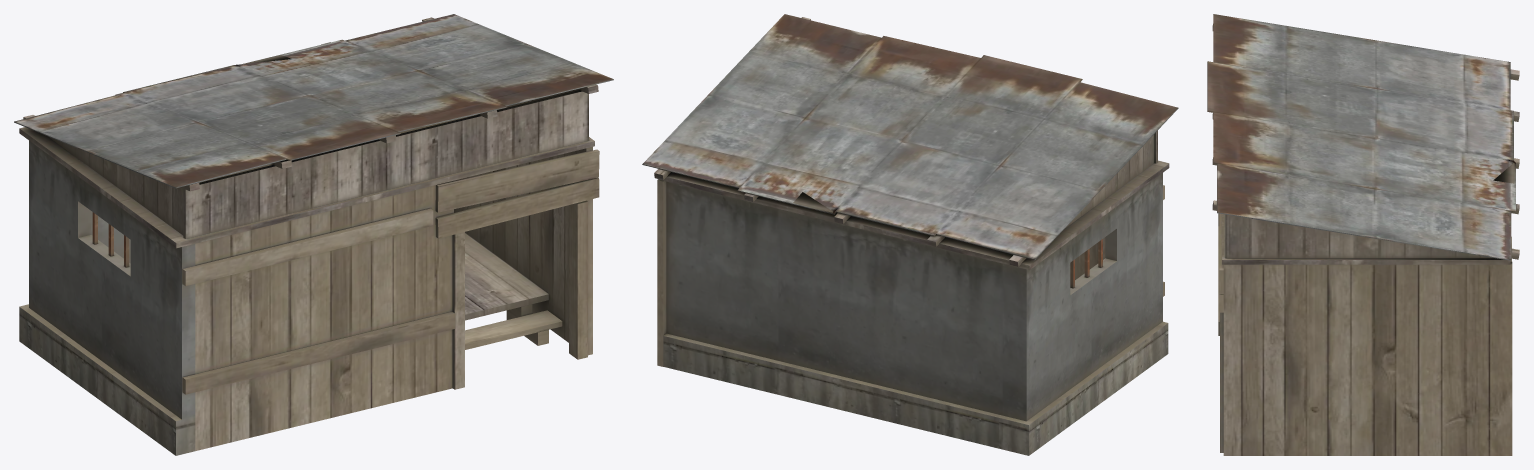
The model's file is startup_office.glb.
The picture shows the model from 3 angles, left to right: view 1: azimuth 30°, elevation 25°; view 2: azimuth 150°, elevation 25°; view 3: azimuth 270°, elevation 25°; orthographic projection. The views are drawn at different scales.
Visible parts, largest first — view 1: building_1_Building_1_0; view 2: building_1_Building_1_0; view 3: building_1_Building_1_0.
Part boxes in pixels (x1,y1,x2,y2): building_1_Building_1_0: (14, 14, 613, 455); building_1_Building_1_0: (642, 14, 1178, 455); building_1_Building_1_0: (1207, 14, 1519, 455).
Size of the model in its own units: 6.64 by 3.99 by 4.43.
Materials: 1 (1 with a texture image).
